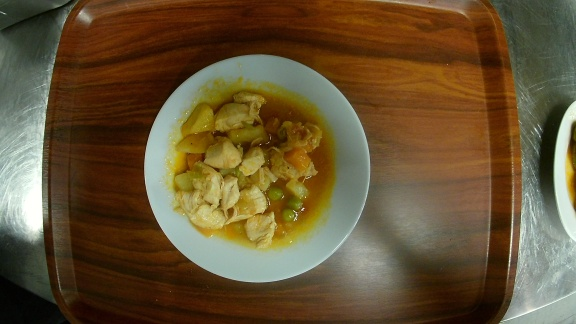bezelyelitavuk: (141, 53, 373, 285)
